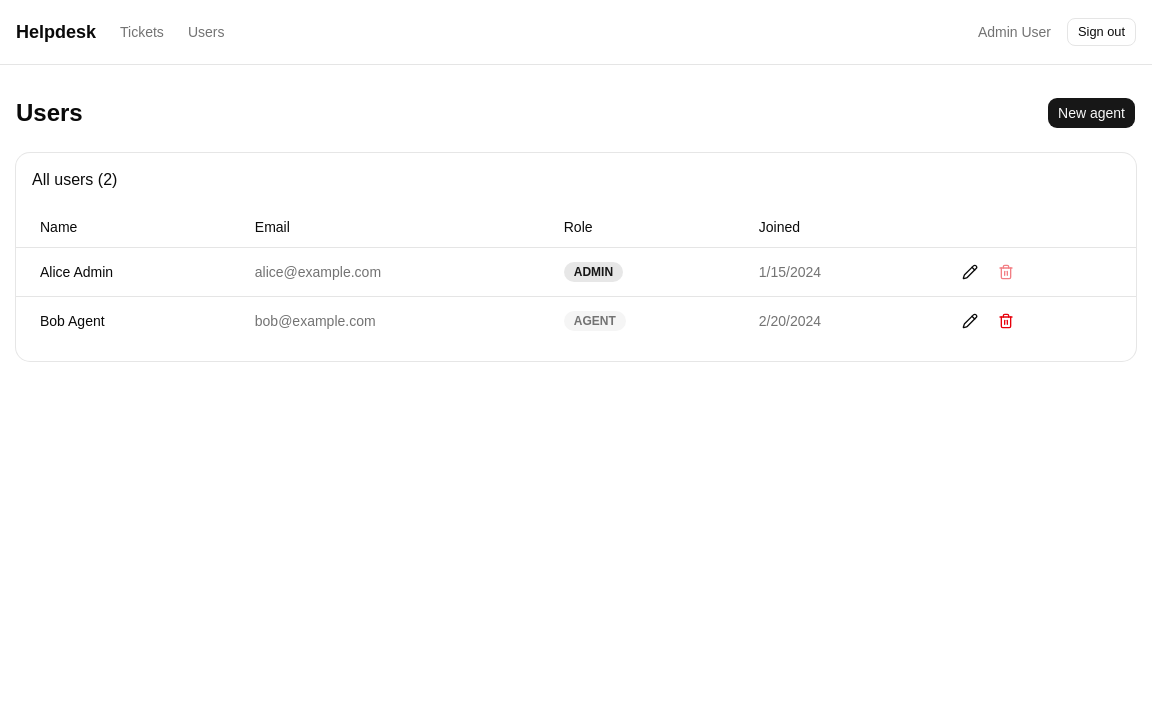
Test case: UsersPage › "New agent" button › opens the CreateUserDialog when New agent button is clicked
Expected: the text "Alice Admin" is shown, [16,247,231,296]
Click the button "New agent" at point(1092, 113), box [1047,97,1136,129]
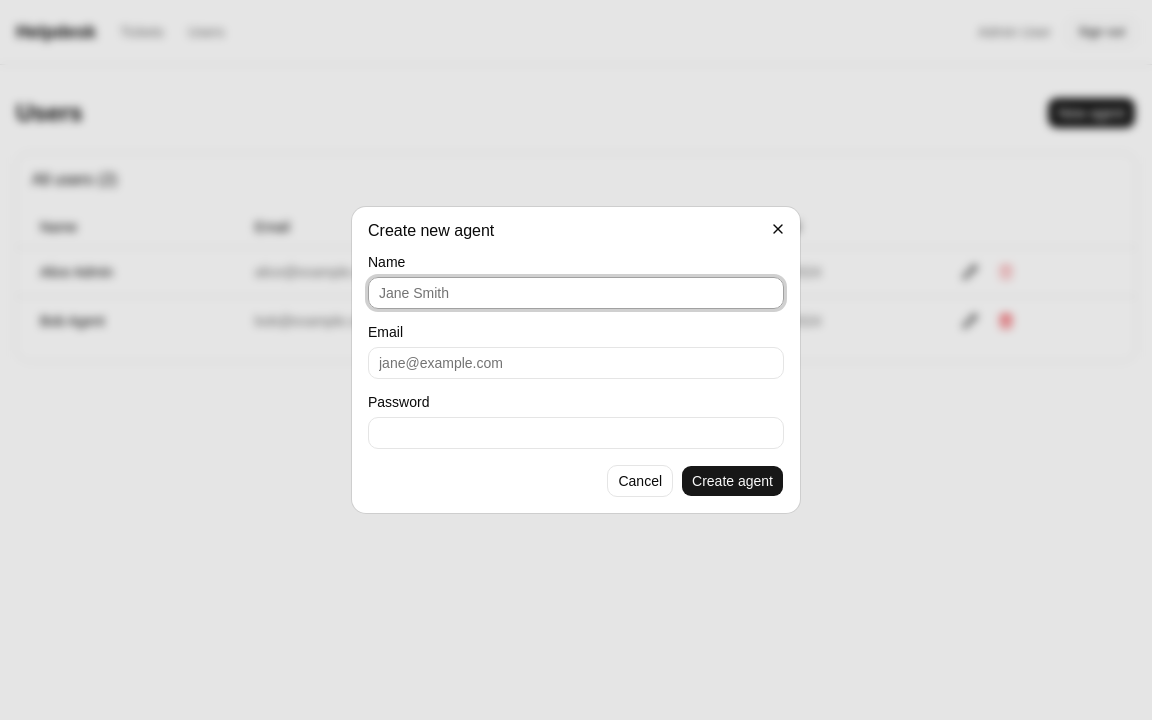
Expected: the heading "Create new agent" is shown, [368,222,494,239]
